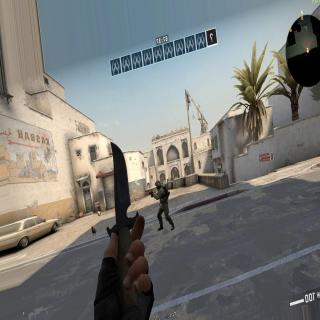CT-Body: (152, 178, 170, 234)
CT-Head: (154, 180, 162, 189)
